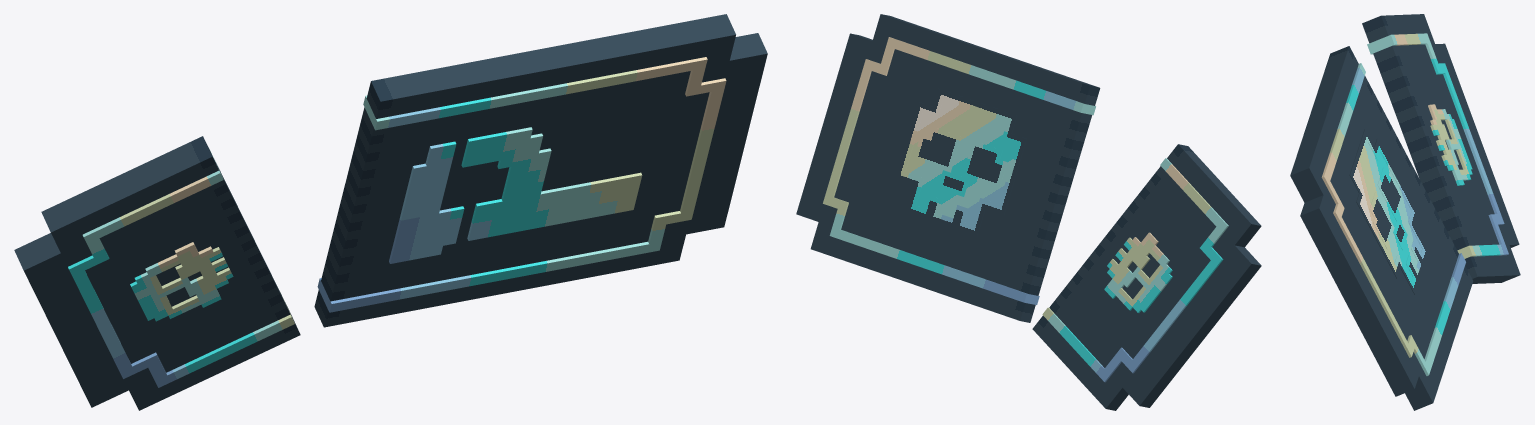
3 views of the same model, side by side, from view 1: azimuth 30°, elevation 25°; view 2: azimuth 150°, elevation 25°; view 3: azimuth 270°, elevation 25° (orthographic). The views are drawn at different scales.
Parts seen in each view (by area): view 1: ticket_...cket$$(3)-Local, ticket_ship_tab$$(3)-Local, icon$$(3)-Local, skull$$(2)-Local; view 2: ticket_...cket$$(3)-Local, ticket_ship_tab$$(3)-Local, skull-Local, skull$$(2)-Local, icon$$(3)-Local, skull_fill-Local; view 3: ticket_...cket$$(3)-Local, ticket_ship_tab$$(3)-Local, skull$$(2)-Local, skull-Local, icon$$(3)-Local, skull_fill-Local.
Boxes of the visible parts, x1,y1,x2,y2 form: ticket_...cket$$(3)-Local: (314, 14, 767, 327); ticket_ship_tab$$(3)-Local: (14, 136, 300, 410); icon$$(3)-Local: (317, 57, 726, 312); skull$$(2)-Local: (68, 147, 294, 387); ticket_...cket$$(3)-Local: (796, 14, 1100, 322); ticket_ship_tab$$(3)-Local: (1032, 144, 1261, 410); skull-Local: (895, 88, 1026, 236); skull$$(2)-Local: (1042, 158, 1228, 382); icon$$(3)-Local: (823, 37, 1095, 304); skull_fill-Local: (905, 100, 1016, 224); ticket_...cket$$(3)-Local: (1290, 46, 1473, 410); ticket_ship_tab$$(3)-Local: (1362, 14, 1520, 283); skull$$(2)-Local: (1367, 33, 1508, 258); skull-Local: (1349, 129, 1428, 294); icon$$(3)-Local: (1321, 63, 1465, 375); skull_fill-Local: (1356, 143, 1421, 280).
Bounding box in the file's own units: 115 × 59.99 × 42.85.
6 materials, 6 textured.
